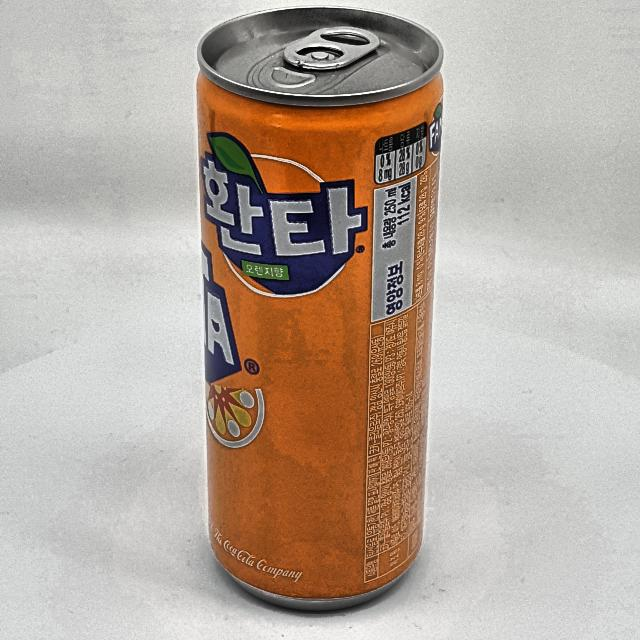fantaorange: (192, 0, 448, 620)
